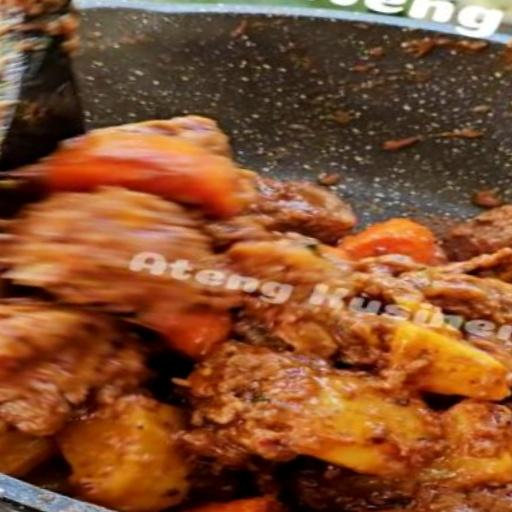pork caldereta: (0, 122, 511, 511)
